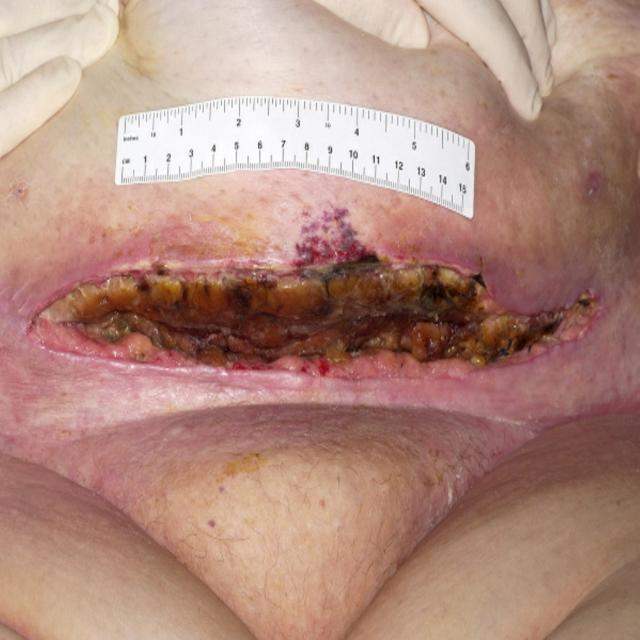wound: (27, 258, 602, 372)
